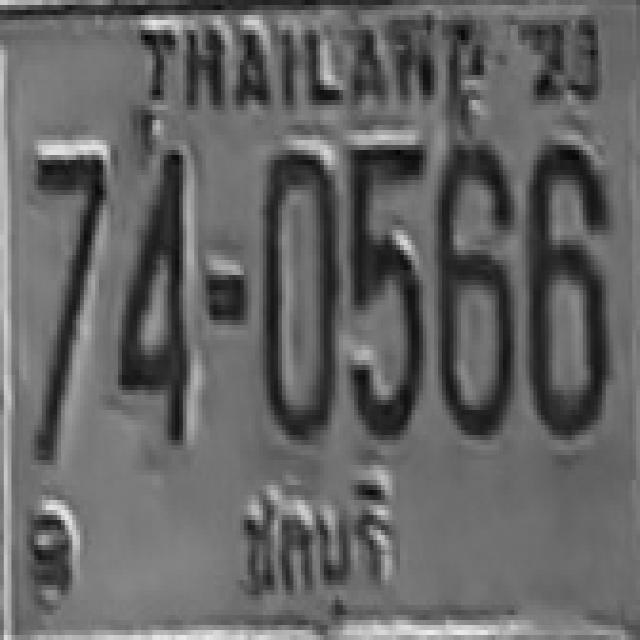0: (259, 145, 335, 435)
4: (114, 145, 187, 445), (114, 145, 187, 415)
5: (347, 140, 423, 435)
6: (526, 140, 606, 435), (432, 140, 512, 435)
7: (32, 150, 105, 335)
Chonburi: (224, 462, 414, 618)
